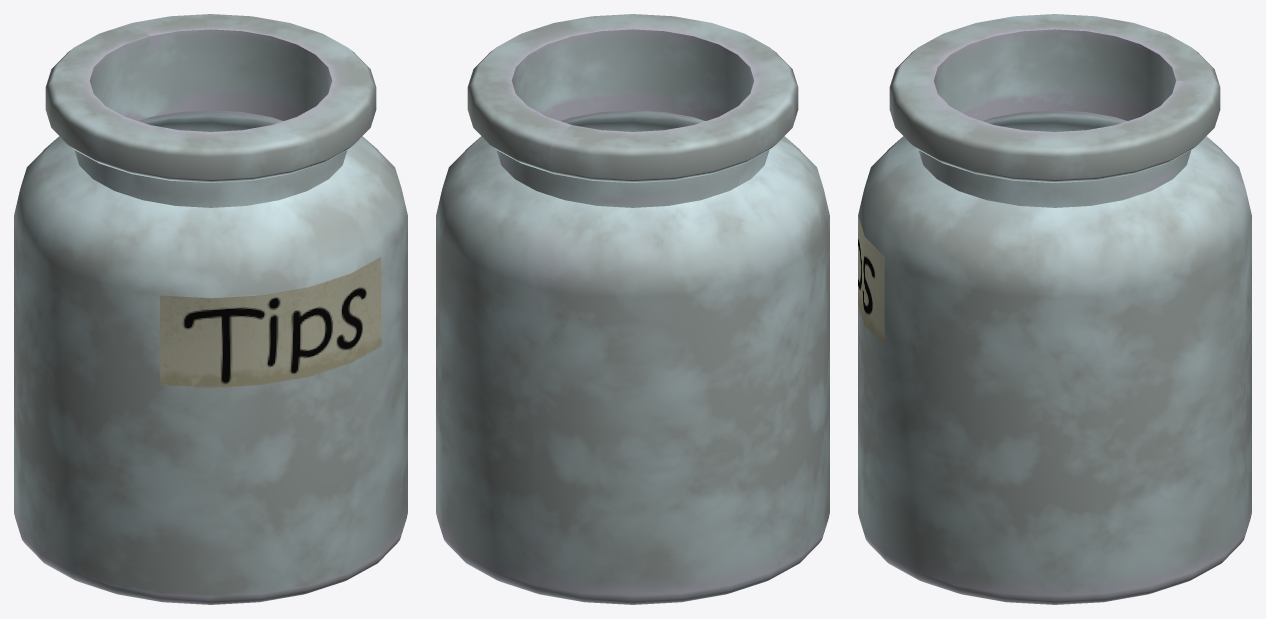
Rendered from Jar.fbx.
3 views of the same model, side by side, from view 1: azimuth 30°, elevation 25°; view 2: azimuth 150°, elevation 25°; view 3: azimuth 270°, elevation 25° (orthographic).
Parts seen in each view (by area): view 1: Jar, Tag; view 2: Jar; view 3: Jar, Tag.
Boxes of the visible parts, bbox=[...] form: Jar: bbox=[14, 14, 407, 604]; Tag: bbox=[160, 257, 381, 387]; Jar: bbox=[436, 14, 829, 604]; Jar: bbox=[858, 14, 1251, 604]; Tag: bbox=[858, 215, 884, 345].
Size of the model in its own units: 60 by 75 by 60.
